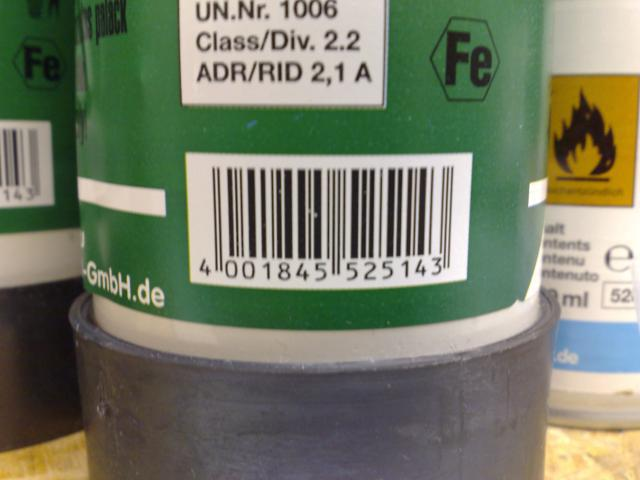Barkod: (210, 164, 453, 258)
